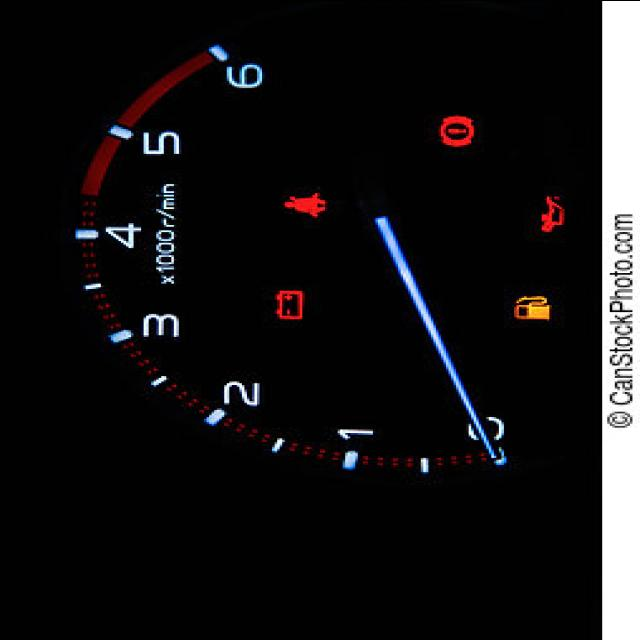Braking System Issue: (436, 112, 479, 148)
Charging System Issue: (270, 286, 308, 322)
Low Engine Oil Warning Light: (537, 193, 567, 234)
